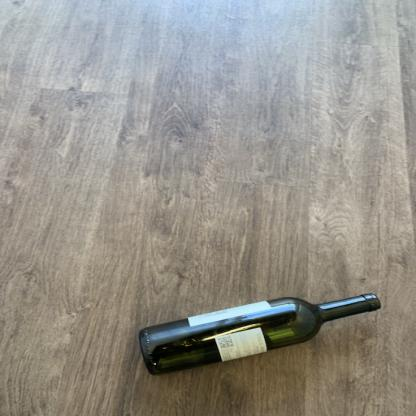trash: (138, 290, 384, 377)
